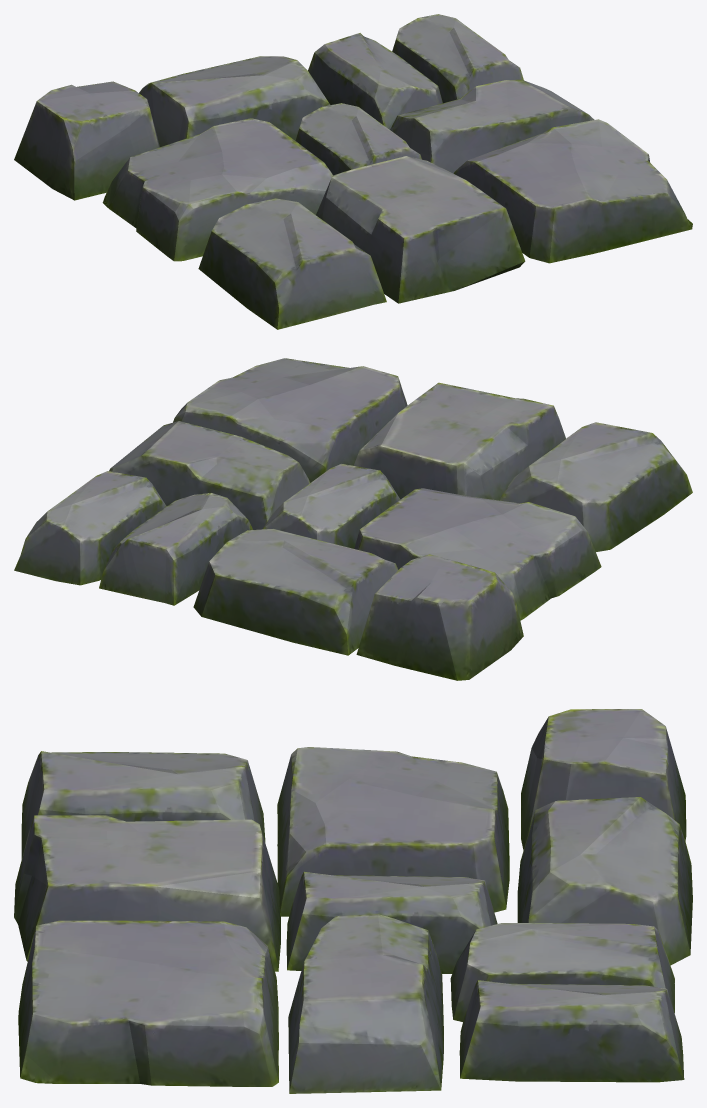
The model's file is RockPath_Square_Small_1.glb.
3 renders of one model, top to bottom at view 1: azimuth 30°, elevation 25°; view 2: azimuth 150°, elevation 25°; view 3: azimuth 270°, elevation 25°, orthographic. The views are drawn at different scales.
Visible parts, largest first — view 1: RockPath_Square_Small_1; view 2: RockPath_Square_Small_1; view 3: RockPath_Square_Small_1.
Part boxes in pixels (x1,y1,x2,y2): RockPath_Square_Small_1: (14,14,692,329); RockPath_Square_Small_1: (14,358,692,680); RockPath_Square_Small_1: (14,709,692,1093).
Bounding box in the file's own units: 1.02 × 0.1499 × 0.9739.
Materials: 1 (1 with a texture image).
